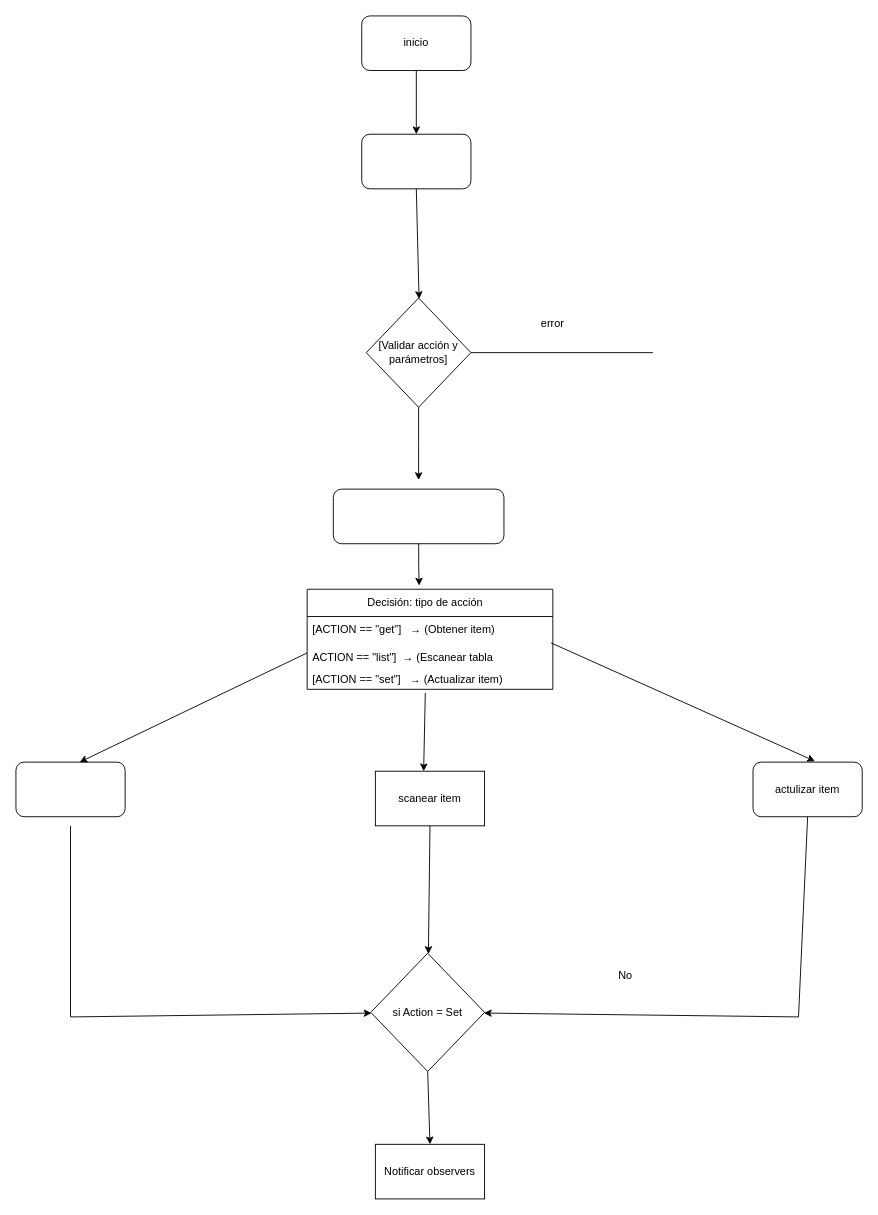
The diagram is 878 pixels wide and 1215 high, and some of its shapes have lost their labels. The centre of each missing label's shape, as x and y in pixels:
[Registrar acción en CorporateLog]: (418,516)
obtener item: (70,789)
Recibir solicitud JSON del cliente: (416,161)
